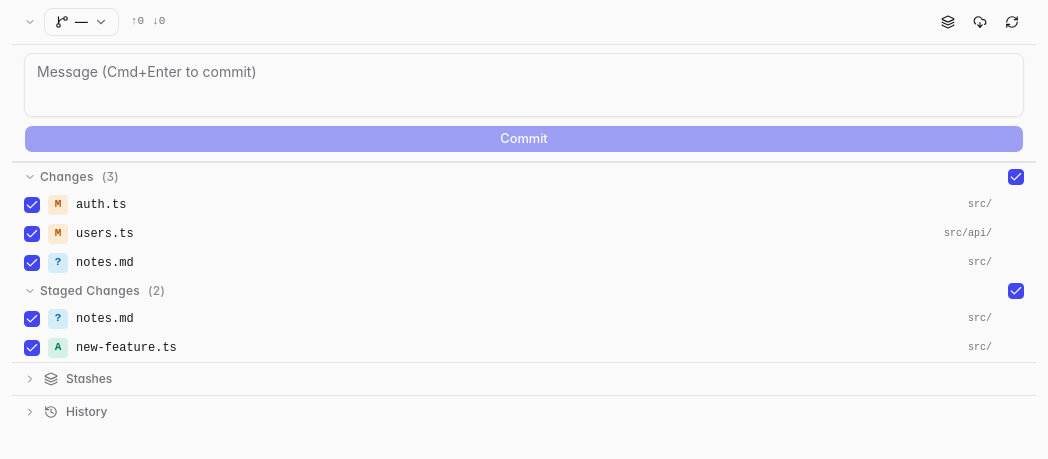
Test case: SourceControlPanel › shows the inline error banner with the right copy on a failure result
Type "msg" into the text box with test id "scm-message".
click(524, 85); type("msg")  # box [24,53,1024,117]
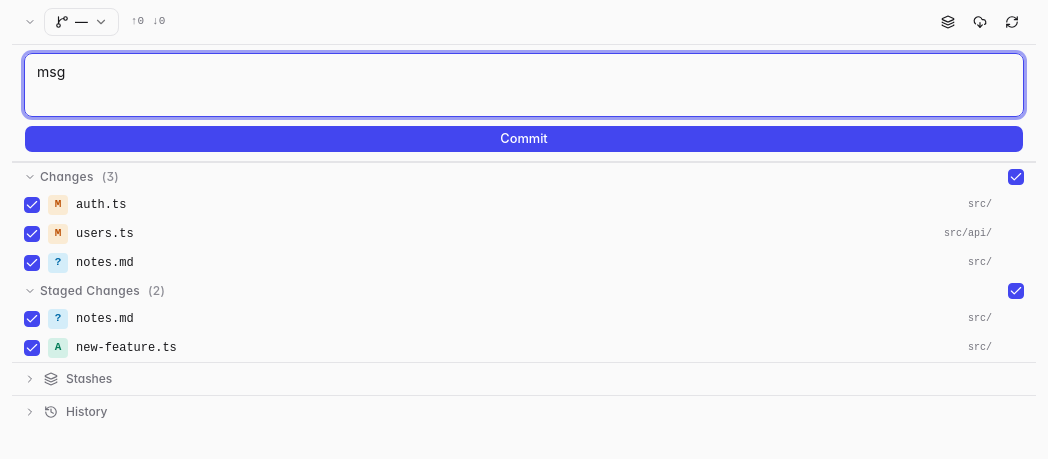
Click the button with test id "scm-commit-submit".
click(524, 139)  # box [24,125,1024,153]
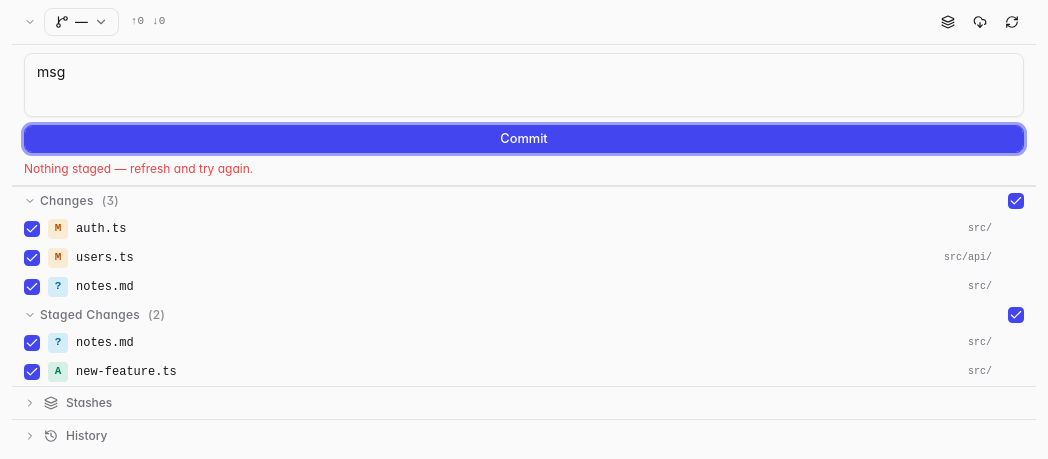
Expected: the message with test id "scm-commit-error" shows "Nothing staged", [24,161,253,176]
